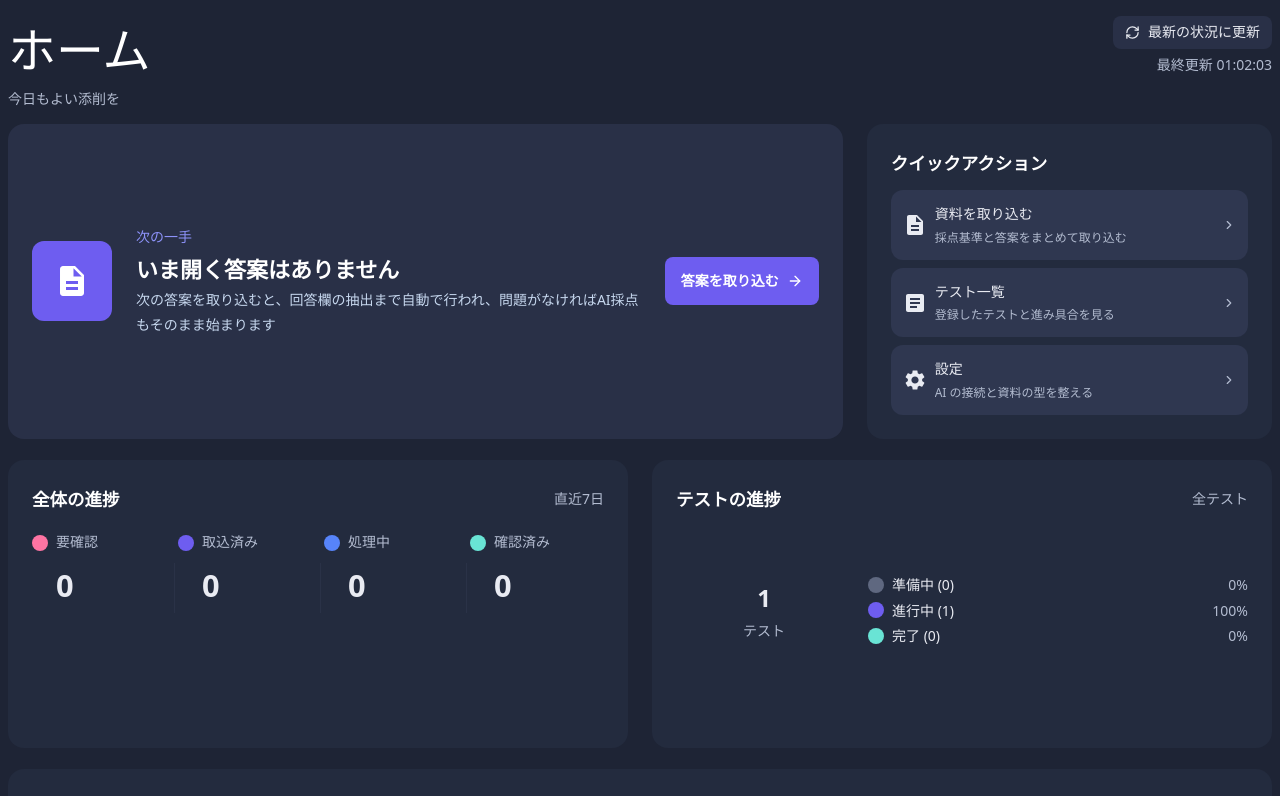
Test: home reload feedback (Issue #383) › keeps the last-updated time and shows the error banner when a reload fails
Expected: the text with test id "home-last-updated" shows "01:02:03", [1216,54,1272,74]
Click the button with test id "home-refresh" at (1192, 32), box [1113,16,1272,48]
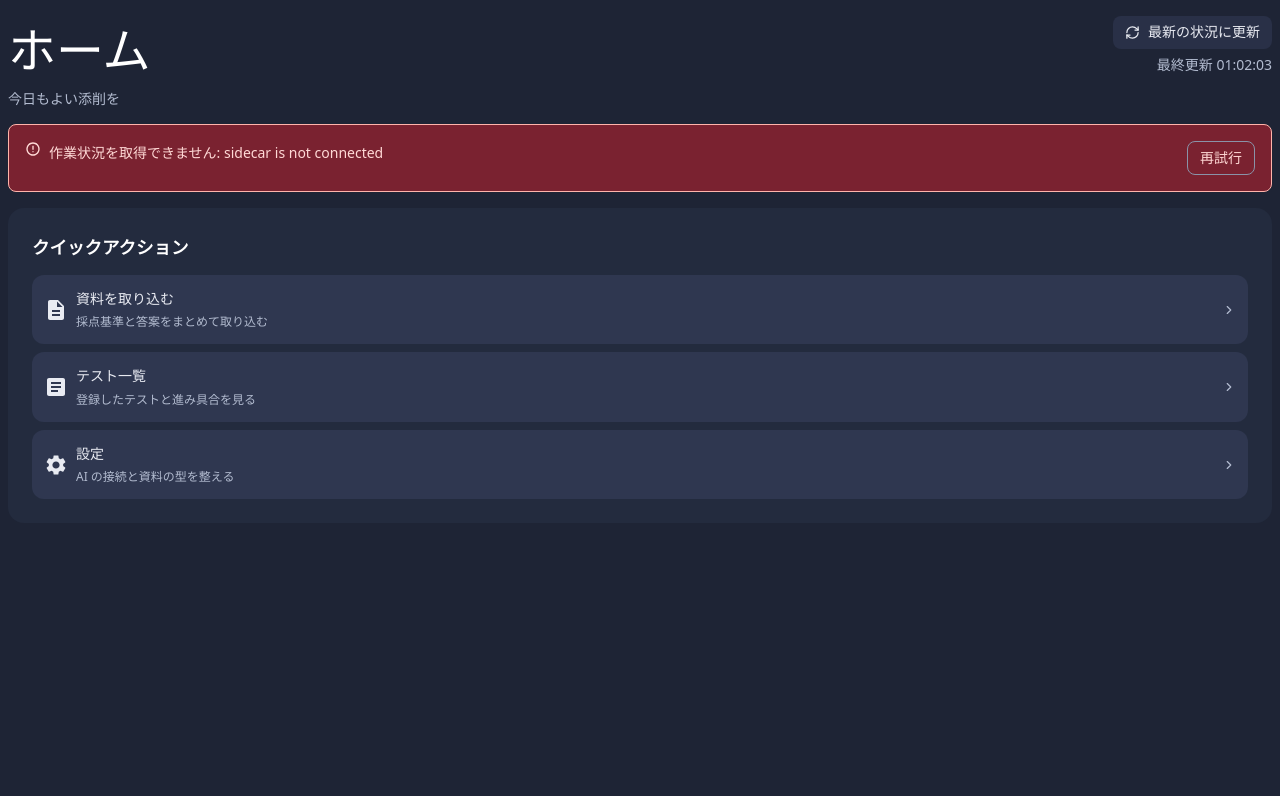
Expected: the text with test id "home-last-updated" shows "01:02:03", [1216,54,1272,74]
Expected: the message "作業状況を取得できません: sidecar is not connected 再試行" is shown, [8,124,1272,192]
